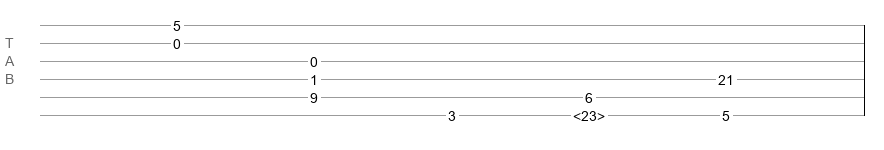0: (173, 36, 181, 46), (310, 54, 318, 64)
1: (310, 72, 318, 82)
21: (718, 72, 734, 82)
3: (448, 108, 456, 118)
5: (173, 18, 181, 28), (722, 108, 730, 118)
6: (585, 90, 593, 100)
9: (310, 90, 318, 100)
harmonic: (573, 108, 605, 118)
